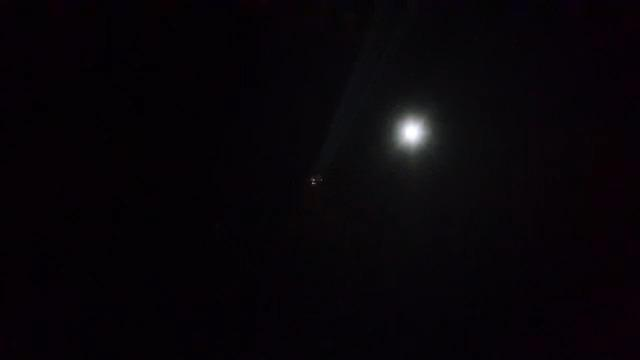Plane: (302, 130, 348, 190)
